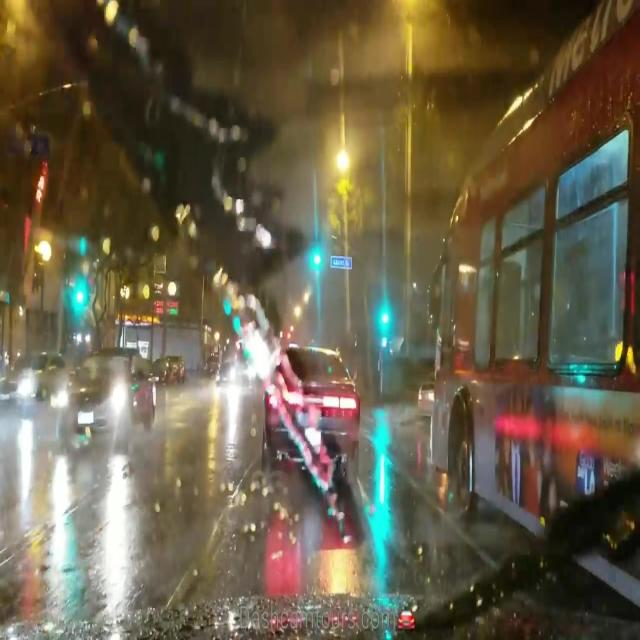Car: (267, 341, 360, 463), (60, 346, 153, 456)
